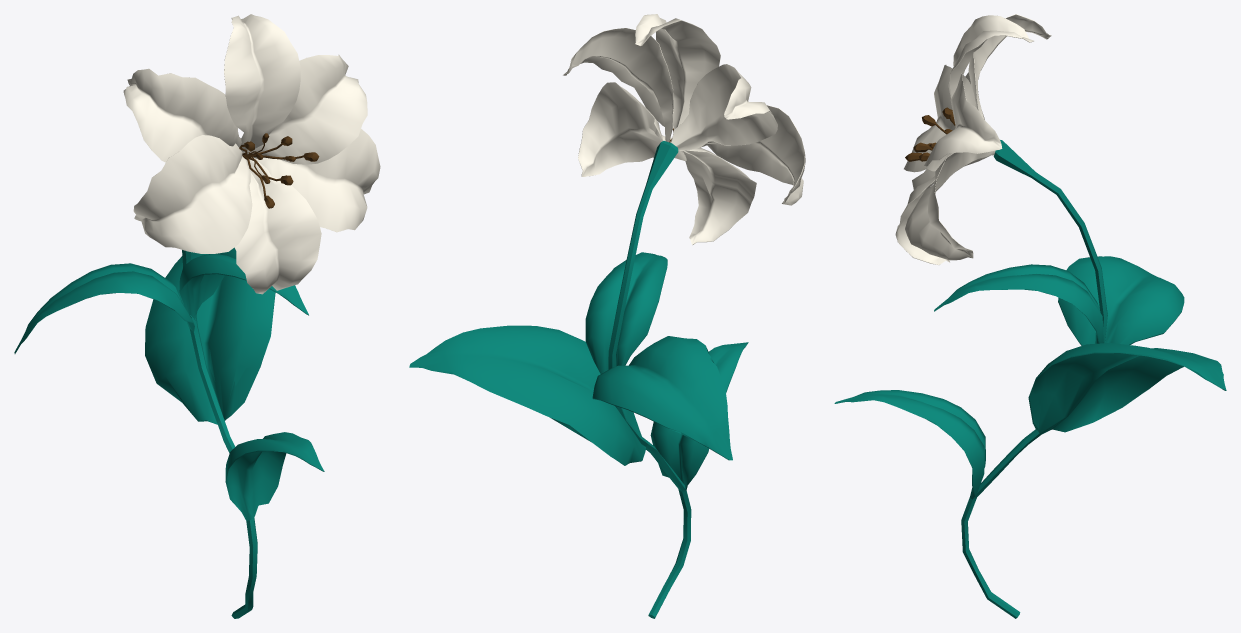
The model's file is lily.gltf.
3 views of the same model, side by side, from view 1: azimuth 30°, elevation 25°; view 2: azimuth 150°, elevation 25°; view 3: azimuth 270°, elevation 25° (orthographic). The views are drawn at different scales.
Visible parts, largest first — view 1: pPlane7, pPlane1, pPlane2, pPlane6, pPlane4, pPlane5, pPlane3, pPlane9, pPlane8; view 2: pPlane7, pPlane9, pPlane8, pPlane5, pPlane3, pPlane4, pPlane6, pPlane2, pPlane1; view 3: pPlane7, pPlane9, pPlane8, pPlane3, pPlane4, pPlane2, pPlane1, pPlane5, pPlane6.
Part boxes in pixels (x1=…): pPlane7: x1=145, y1=250, x2=324, y2=618; pPlane1: x1=133, y1=135, x2=252, y2=253; pPlane2: x1=224, y1=14, x2=300, y2=153; pPlane6: x1=234, y1=159, x2=321, y2=294; pPlane4: x1=241, y1=55, x2=367, y2=164; pPlane5: x1=123, y1=68, x2=241, y2=162; pPlane3: x1=251, y1=129, x2=380, y2=232; pPlane9: x1=14, y1=263, x2=194, y2=353; pPlane8: x1=179, y1=247, x2=308, y2=320; pPlane7: x1=409, y1=141, x2=748, y2=618; pPlane9: x1=592, y1=336, x2=732, y2=460; pPlane8: x1=585, y1=252, x2=667, y2=373; pPlane5: x1=671, y1=64, x2=777, y2=150; pPlane3: x1=578, y1=82, x2=686, y2=176; pPlane4: x1=563, y1=28, x2=673, y2=142; pPlane6: x1=680, y1=147, x2=756, y2=244; pPlane2: x1=635, y1=14, x2=720, y2=142; pPlane1: x1=701, y1=105, x2=805, y2=205; pPlane7: x1=834, y1=140, x2=1226, y2=618; pPlane9: x1=1058, y1=256, x2=1184, y2=345; pPlane8: x1=934, y1=264, x2=1103, y2=343; pPlane3: x1=905, y1=150, x2=995, y2=260; pPlane4: x1=924, y1=73, x2=1002, y2=171; pPlane2: x1=948, y1=15, x2=1033, y2=99; pPlane1: x1=904, y1=64, x2=955, y2=172; pPlane5: x1=965, y1=14, x2=1051, y2=119; pPlane6: x1=895, y1=169, x2=949, y2=264.
Bounding box in the file's own units: 10.25 × 20.14 × 12.02.
